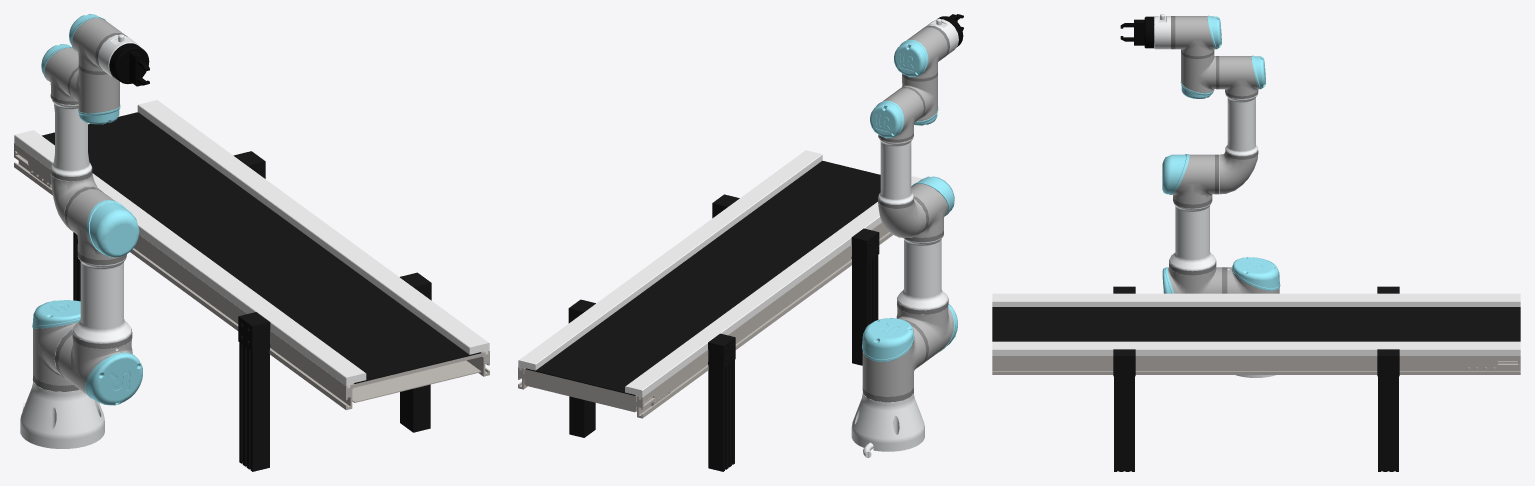
The model's file is UR_Pick_and_Place_Station.glb.
3 views of the same model, side by side, from view 1: azimuth 30°, elevation 25°; view 2: azimuth 150°, elevation 25°; view 3: azimuth 270°, elevation 25° (orthographic). The views are drawn at different scales.
Visible parts, largest first — view 1: color-6[2], URjoint2_Bodies, color-6[3], color-6[4], color-6[5], URjoint3_Bodies, color-7[1], URbase_Bodies, URjoint1_Bodies, URjoint4_Bodies, color-6[1], color-7[2] (+4 smaller); view 2: color-6[2], color-6[3], URjoint2_Bodies, color-6[4], URjoint3_Bodies, URjoint1_Bodies, color-6[5], color-7, URbase_Bodies, color-7[1], color-6, URjoint5_Bodies (+3 smaller); view 3: color-6[2], color-6[5], color-6[3], color-6[4], URjoint2_Bodies, URjoint3_Bodies, color-7[2], color-7[3], URjoint5_Bodies, URjoint1_Bodies, URjoint4_Bodies, color-6 (+2 smaller).
Boxes of the visible parts, box(x1,y1,x2,y2) form: color-6[2]: box(42, 112, 481, 383); URjoint2_Bodies: box(54, 189, 142, 405); color-6[3]: box(137, 100, 489, 354); color-6[4]: box(14, 130, 366, 387); color-6[5]: box(38, 161, 489, 410); URjoint3_Bodies: box(41, 44, 103, 231); color-7[1]: box(238, 312, 270, 471); URbase_Bodies: box(20, 379, 104, 448); URjoint1_Bodies: box(32, 300, 80, 391); URjoint4_Bodies: box(67, 66, 120, 124); color-6[1]: box(352, 360, 481, 402); color-7[2]: box(400, 272, 431, 432); color-6[2]: box(525, 160, 880, 395); color-6[3]: box(518, 150, 822, 370); URjoint2_Bodies: box(893, 176, 957, 364); color-6[4]: box(625, 176, 922, 399); URjoint3_Bodies: box(870, 88, 929, 237); URjoint1_Bodies: box(862, 318, 926, 402); color-6[5]: box(663, 222, 892, 402); color-7: box(708, 333, 735, 471); URbase_Bodies: box(851, 393, 924, 457); color-7[1]: box(851, 228, 879, 365); color-6: box(518, 367, 670, 418); URjoint5_Bodies: box(894, 27, 947, 81); color-6[2]: box(992, 307, 1520, 341); color-6[5]: box(992, 356, 1481, 374); color-6[3]: box(992, 341, 1520, 355); color-6[4]: box(992, 293, 1520, 306); URjoint2_Bodies: box(1162, 154, 1227, 293); URjoint3_Bodies: box(1215, 55, 1265, 194); color-7[2]: box(1113, 349, 1135, 471); color-7[3]: box(1377, 349, 1399, 471); URjoint5_Bodies: box(1175, 15, 1221, 59); URjoint1_Bodies: box(1227, 257, 1280, 293); URjoint4_Bodies: box(1180, 52, 1219, 98); color-6: box(1465, 356, 1520, 374).
Bounding box in the file's own units: 0.5517 × 0.7308 × 1.
